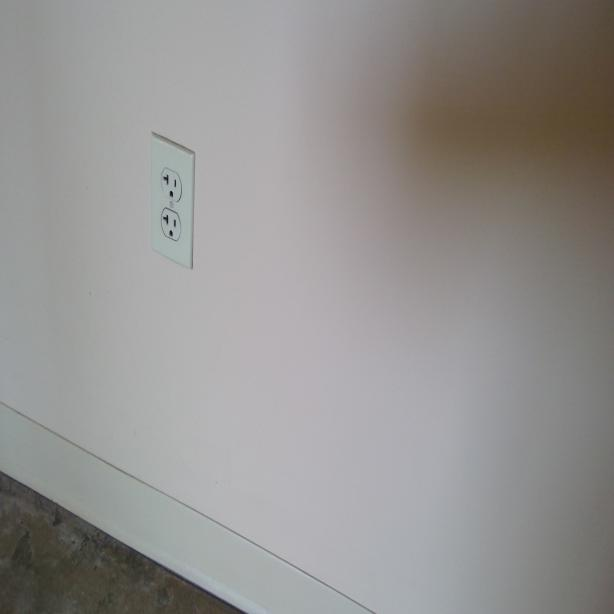typeb: (160, 166, 183, 201), (160, 210, 180, 242)
